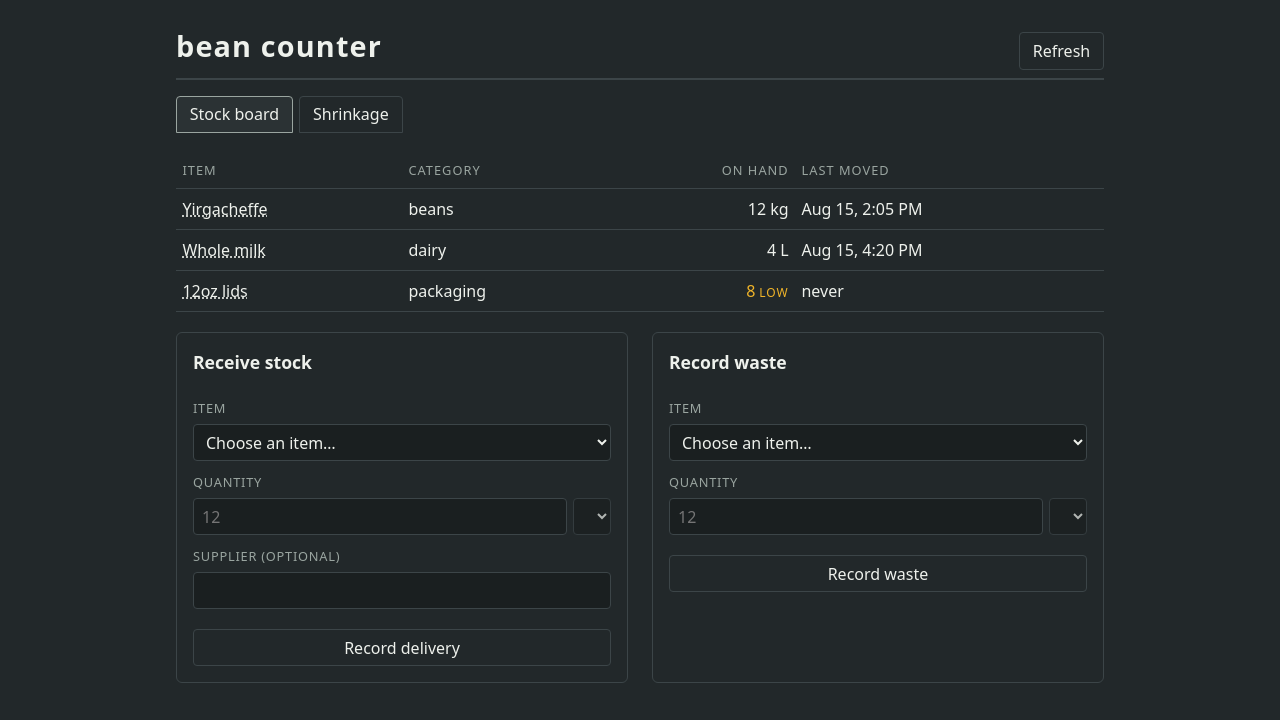
Test: movement forms › shows the backend's own rejection message when a POST is refused
Check: the button "Yirgacheffe" is shown, box x1=182 y1=197 x2=268 y2=221
Select "Yirgacheffe" in the dropdown labelled "Item" below "Receive stock" at (402, 443), box x1=193 y1=424 x2=611 y2=461
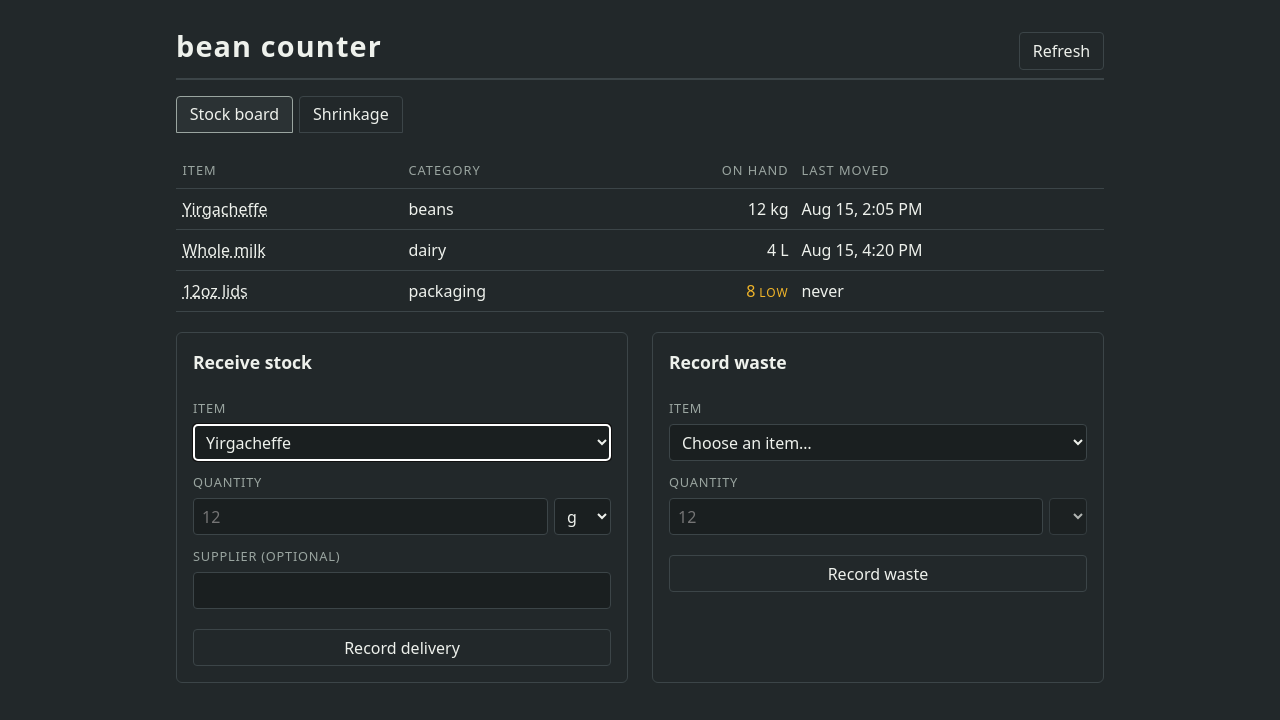
Type "500" into the field labelled "Quantity" below "Receive stock" at (370, 517), box x1=193 y1=498 x2=548 y2=535
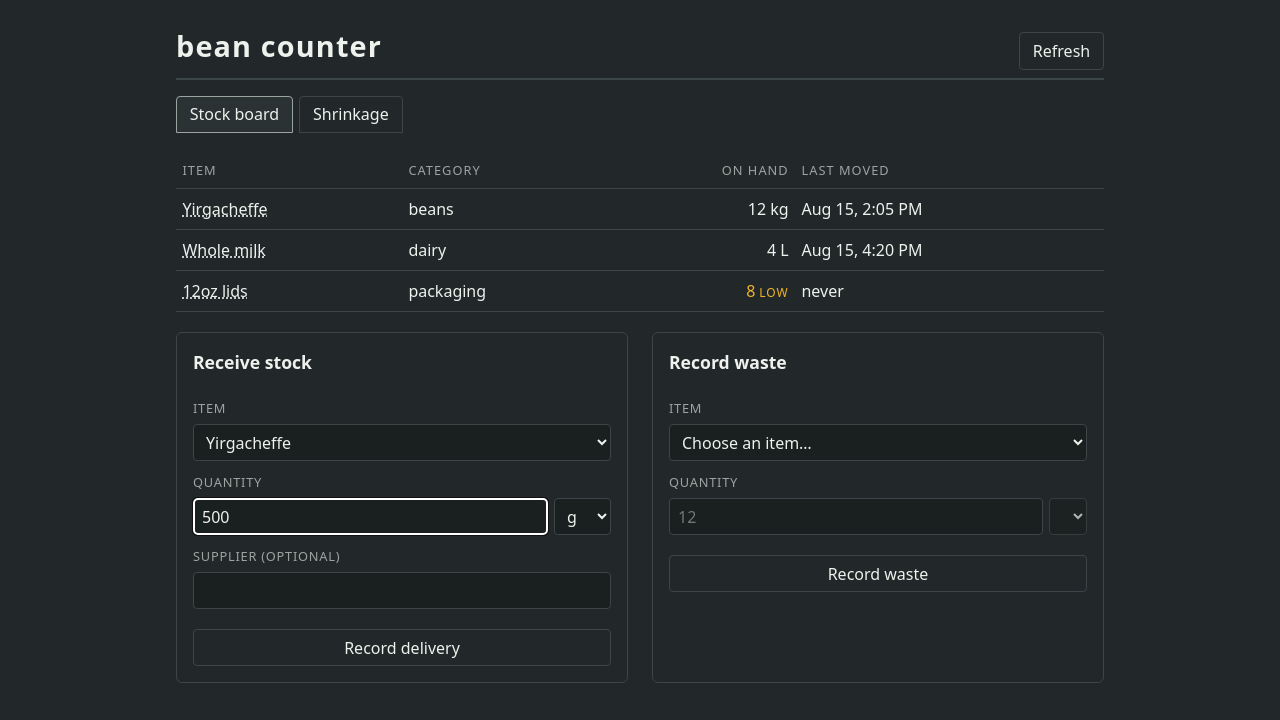
Click the button "Record delivery" at (402, 648), box x1=193 y1=629 x2=611 y2=666
(page scrolled)
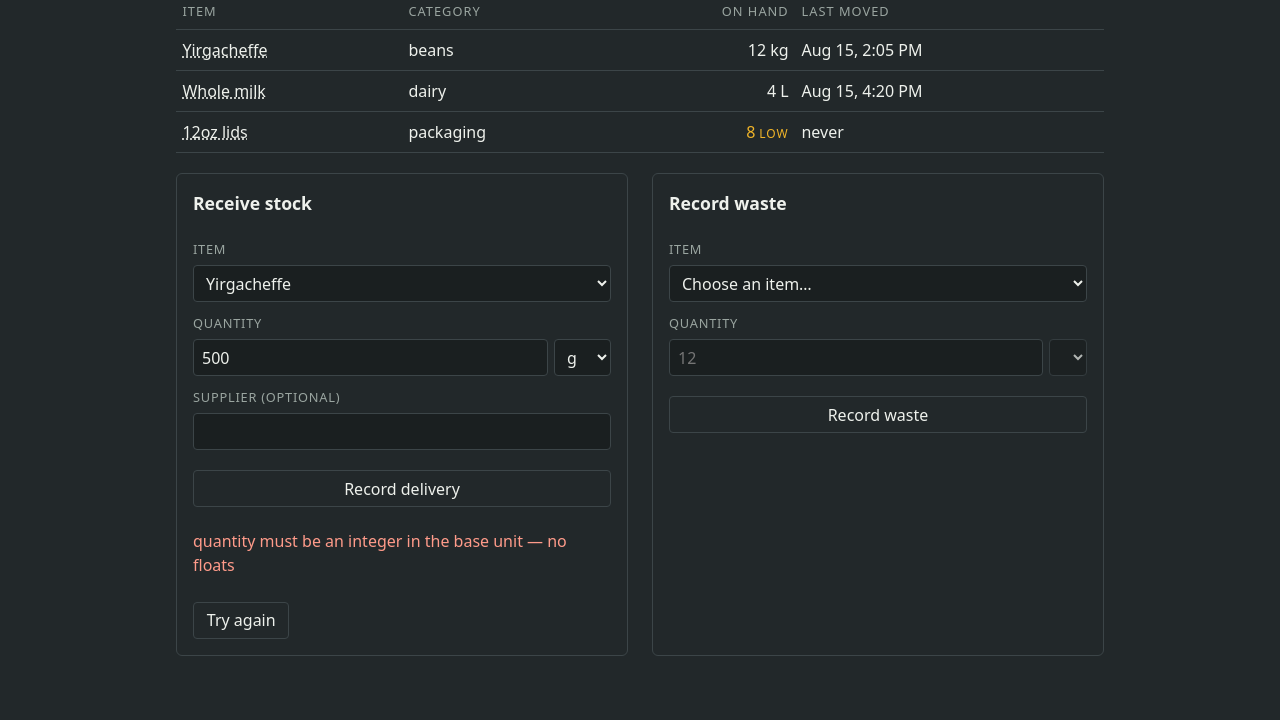
Check: the message reads "quantity must be an integer in the base unit — no floats", box x1=193 y1=530 x2=567 y2=576
